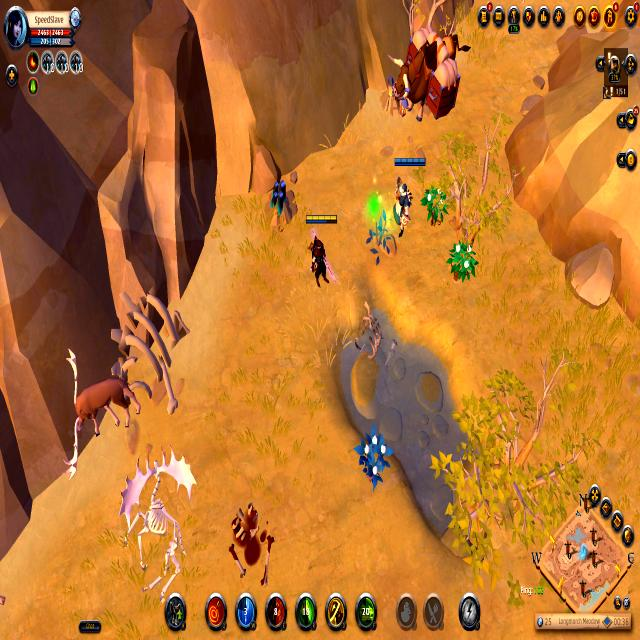hide: (354, 415, 396, 490), (446, 232, 478, 290), (420, 176, 449, 233)
ore: (52, 339, 148, 467)
player: (262, 175, 297, 232), (377, 73, 400, 120)
red: (384, 148, 427, 242), (301, 209, 341, 295)
